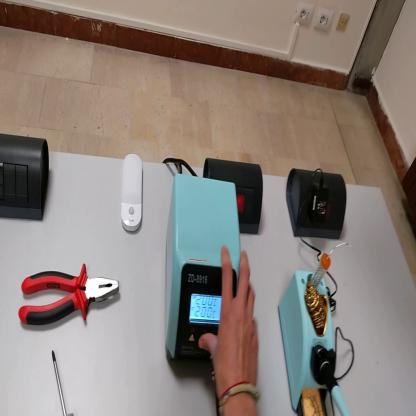hand: (199, 244, 259, 396)
pliers: (15, 267, 120, 331)
screwdriver-: (50, 348, 74, 415)
socket: (200, 161, 265, 233), (287, 172, 348, 241)
welder base: (277, 253, 352, 415)
welder probe tip: (318, 350, 351, 414)
welder station: (164, 173, 241, 364)
